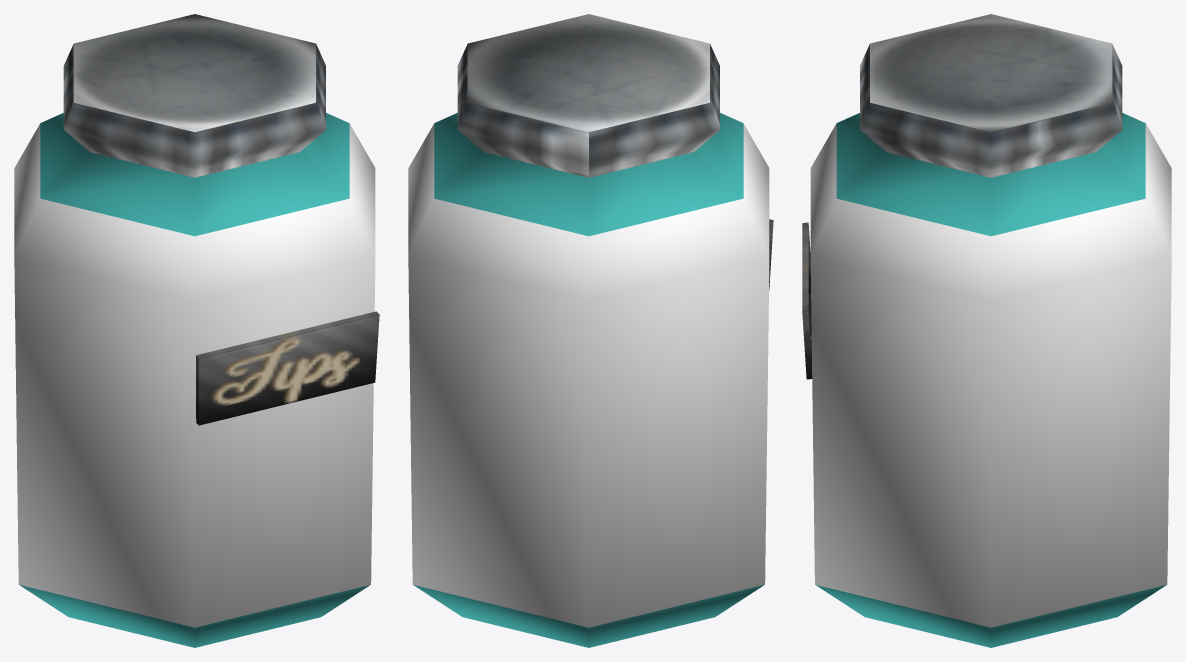
The model's file is Tip_Jar.FBX.
The picture shows the model from 3 angles, left to right: view 1: azimuth 30°, elevation 25°; view 2: azimuth 150°, elevation 25°; view 3: azimuth 270°, elevation 25°; orthographic projection.
Visible parts, largest first — view 1: Jar; view 2: Jar; view 3: Jar.
Part boxes in pixels (box(x1,y1,x2,y2)): Jar: box(14, 14, 379, 647); Jar: box(408, 14, 773, 647); Jar: box(802, 14, 1171, 647).
Size of the model in its own units: 47.72 by 64.79 by 42.28.
